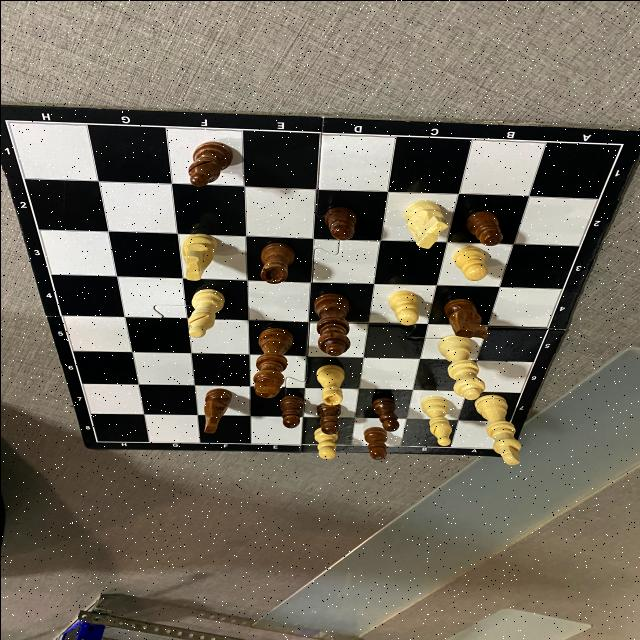Black-Bishop: (185, 142, 231, 188)
Black-King: (253, 327, 293, 397)
Black-Knight: (442, 298, 488, 337), (200, 388, 232, 432)
Black-Pawn: (464, 209, 502, 245), (324, 207, 356, 240), (372, 397, 398, 430), (318, 402, 341, 434), (281, 396, 303, 428), (364, 427, 386, 459)
Black-Queen: (312, 292, 349, 356)
Black-Rook: (258, 242, 296, 282)
White-Bishop: (187, 286, 223, 336), (421, 397, 450, 445)
White-King: (470, 396, 520, 464), (450, 246, 488, 280), (388, 290, 417, 323), (314, 426, 336, 458)
White-Knight: (401, 200, 448, 248), (181, 232, 216, 280)
White-Queen: (437, 335, 482, 399)
White-Rook: (314, 365, 344, 405)
